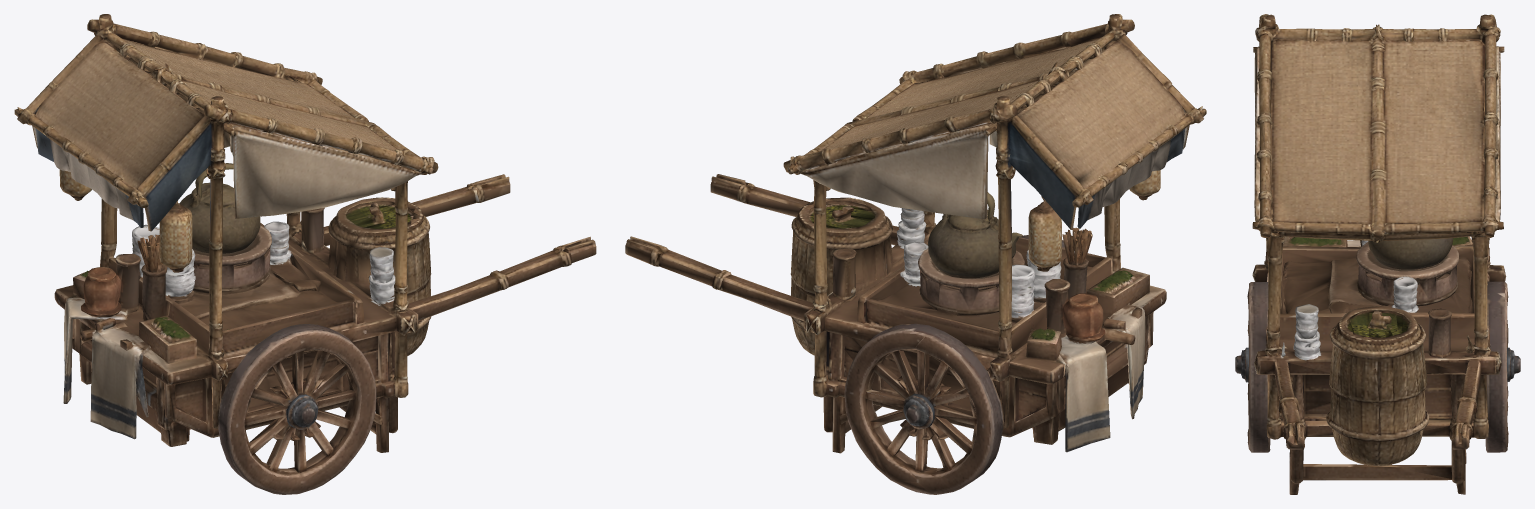
The model's file is 04_Tea_Water_Cart_LOD1.fbx.
The picture shows the model from 3 angles, left to right: view 1: azimuth 30°, elevation 25°; view 2: azimuth 150°, elevation 25°; view 3: azimuth 270°, elevation 25°; orthographic projection. The views are drawn at different scales.
Visible parts, largest first — view 1: 04_Tea_Water_Cart_L1; view 2: 04_Tea_Water_Cart_L1; view 3: 04_Tea_Water_Cart_L1.
Boxes of the visible parts, x1,y1,x2,y2 form: 04_Tea_Water_Cart_L1: (14,14,596,494); 04_Tea_Water_Cart_L1: (625,14,1206,494); 04_Tea_Water_Cart_L1: (1235,14,1520,494).
Size of the model in its own units: 2.71 by 2.2 by 1.45.
